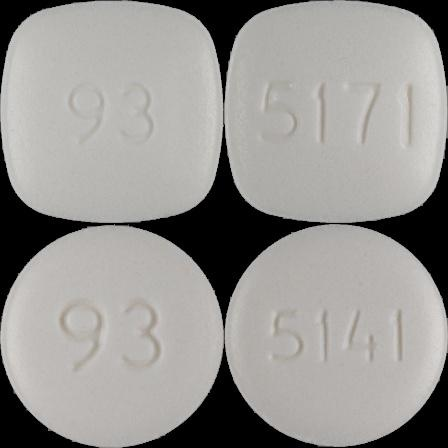54868-5861: (0, 0, 224, 224)
